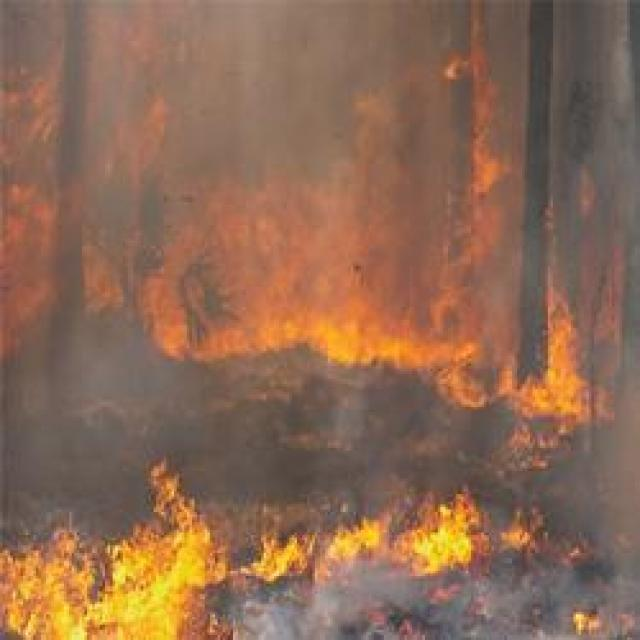fire: (0, 36, 640, 422), (0, 473, 612, 640)
